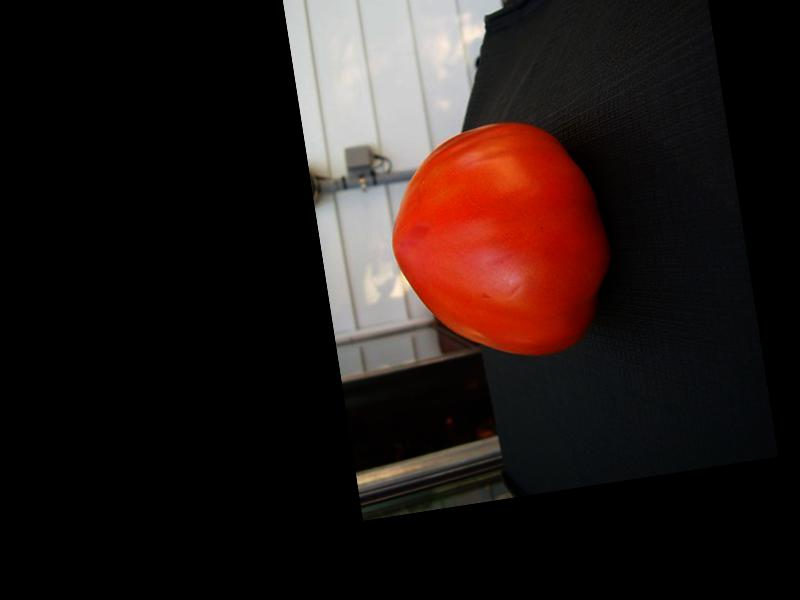Tomato: (375, 109, 622, 375)
